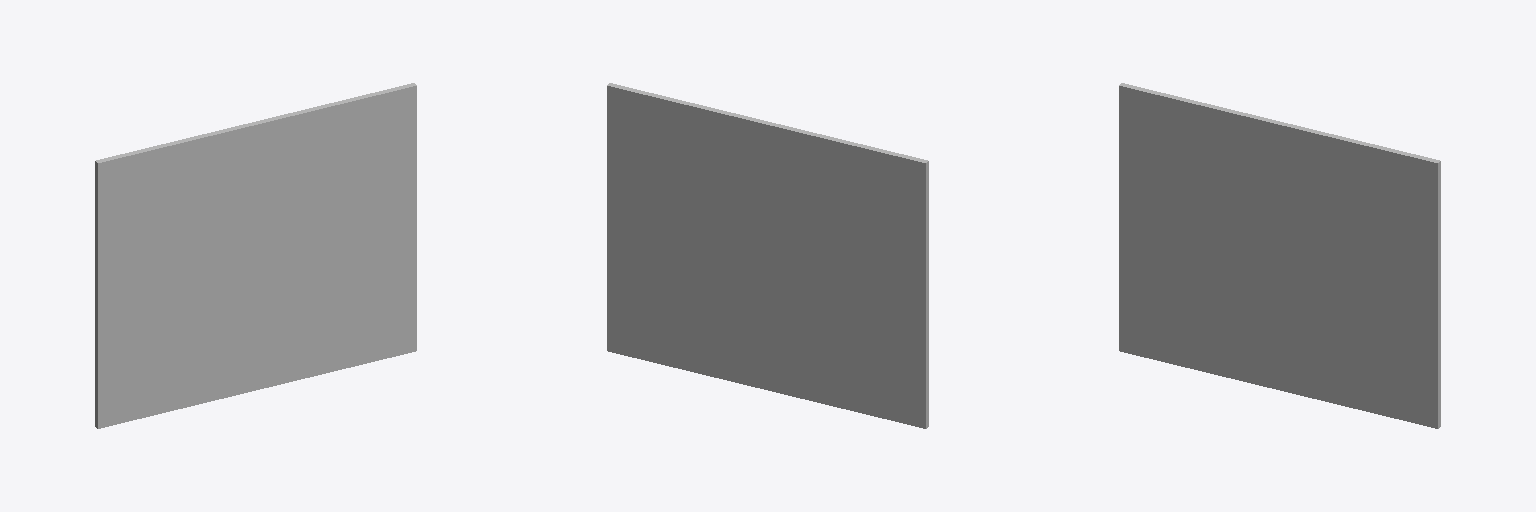
Rendered from paredfrentecocina.obj.
The picture shows the model from 3 angles: view 1: azimuth 30°, elevation 25°; view 2: azimuth 150°, elevation 25°; view 3: azimuth 330°, elevation 25°; orthographic projection.
Visible parts, largest first — view 1: pasted__pasted__pCube35 pasted__group67 group68; view 2: pasted__pasted__pCube35 pasted__group67 group68; view 3: pasted__pasted__pCube35 pasted__group67 group68.
Part boxes in pixels (bbox=[...]): pasted__pasted__pCube35 pasted__group67 group68: bbox=[95, 83, 416, 428]; pasted__pasted__pCube35 pasted__group67 group68: bbox=[607, 83, 928, 428]; pasted__pasted__pCube35 pasted__group67 group68: bbox=[1119, 83, 1440, 428].
Bounding box in the file's own units: 3.63 × 2.89 × 0.07.